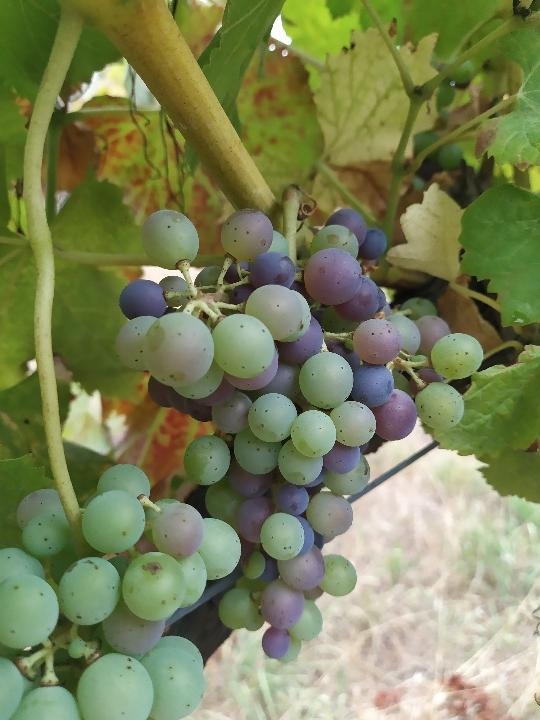grape: (114, 204, 488, 670)
